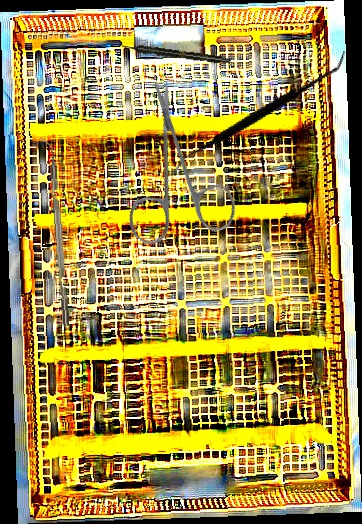Chopper: (40, 135, 70, 328)
Handpiece: (119, 41, 232, 66)
Iris Scissors: (75, 76, 277, 278)
Spatula Surgical: (171, 6, 348, 219)
